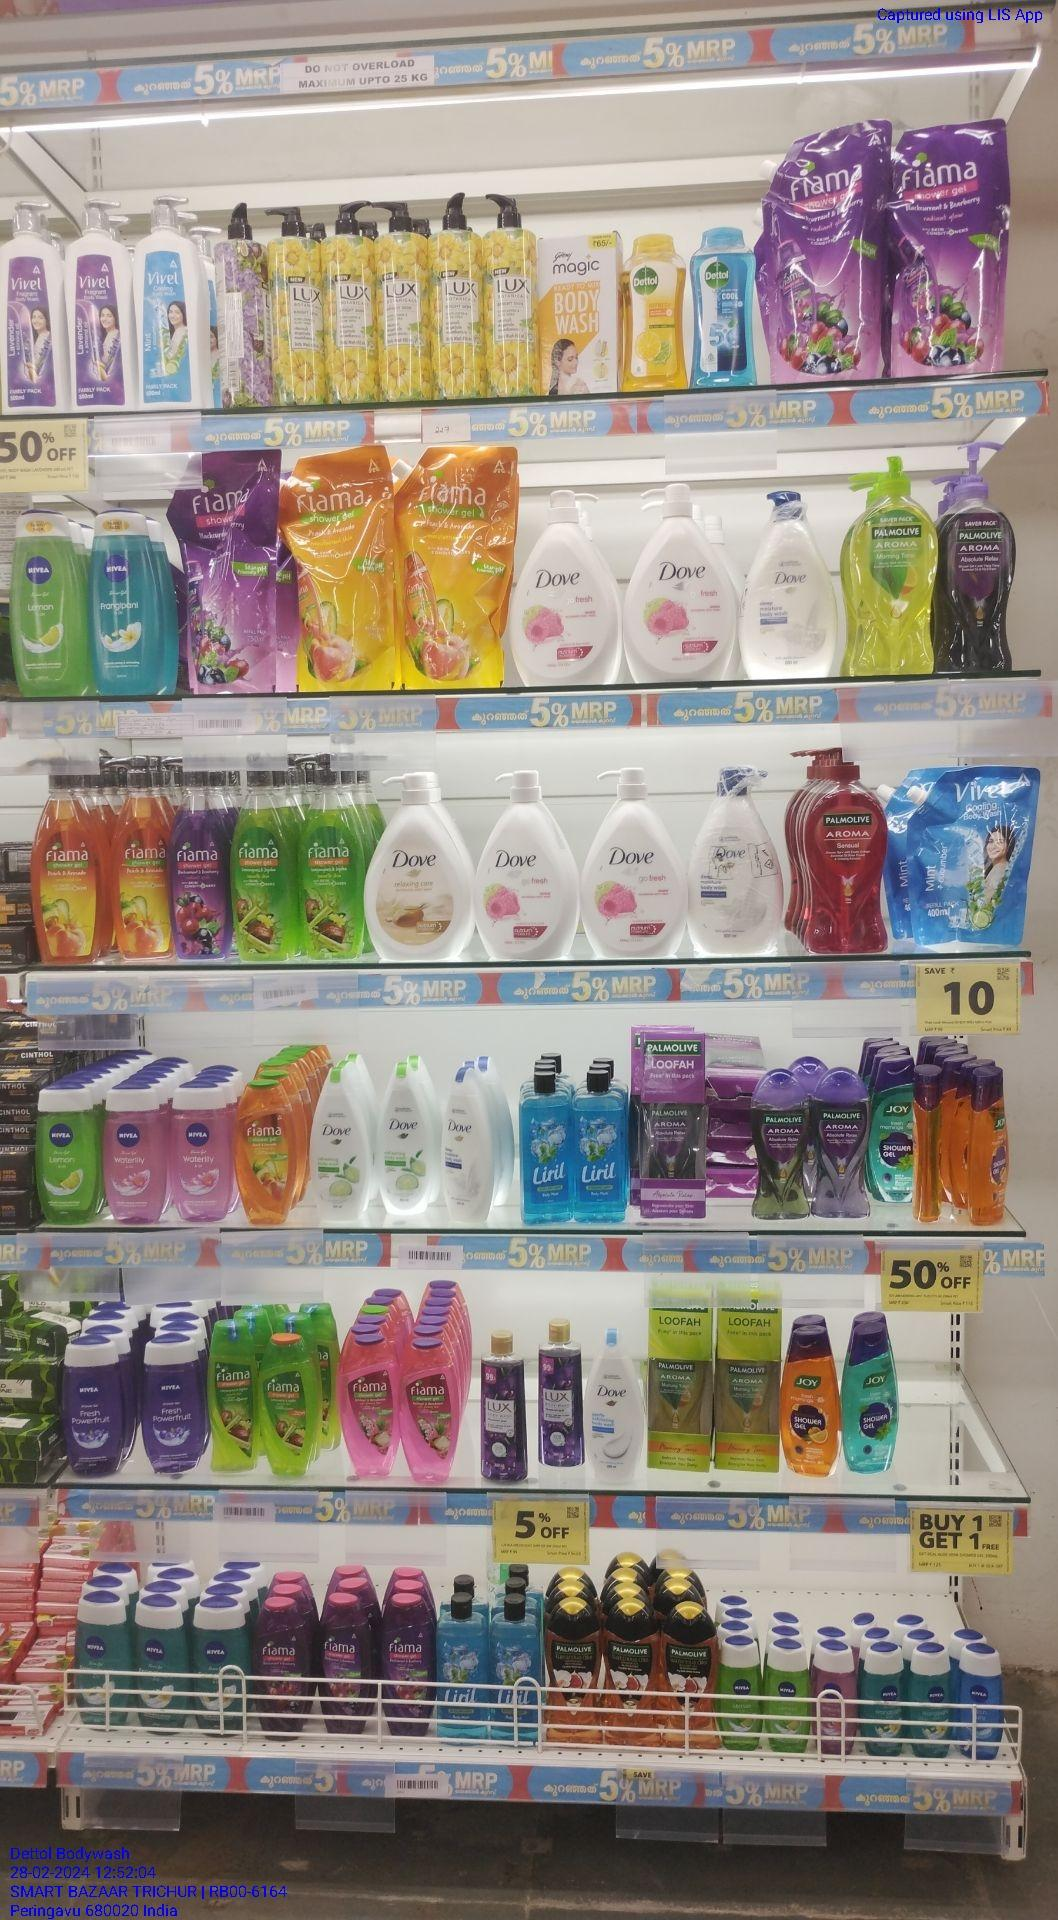Dettol_Bodywash_Cool: (693, 225, 756, 388)
Dettol_Bodywash_Refresh: (620, 231, 688, 400)
Dove_Deep_Moisture_Body_Wash_250ML: (442, 1069, 490, 1223)
Dove_Gentle_Exfoliating_Body_Wash_250ML: (589, 1327, 645, 1484)
Dove_Refreshing_Body_Wash_250ML: (313, 1066, 367, 1221), (377, 1063, 430, 1218)
Fiama_Shower_Gel_Lemongrass_and_Jojoba_250ML: (258, 1336, 314, 1485)
Fiama_Shower_Gel_Patchouli_and_Macadamia_250ML: (341, 1335, 396, 1482), (403, 1340, 456, 1489)
Fiama_Shower_Gel_Peach_and_Avocado_250ML: (237, 1080, 294, 1228)
Joy_Shower_Gel_Mandarin_and_Lemongrass_250ML: (780, 1314, 839, 1478), (973, 1069, 1008, 1231)
Joy_Shower_Gel_Mint_and_Eucalyptus_250ML: (847, 1327, 902, 1473), (869, 1059, 913, 1204)
Liril_Cooling_Mint_Body_Wash_250ML: (571, 1068, 623, 1227), (436, 1598, 489, 1745), (522, 1071, 569, 1226), (490, 1597, 537, 1748)
Lux_Black_Orchid_Scent_and_Juniper_Oil_Body_Wash_245ML: (481, 1329, 526, 1486), (538, 1320, 582, 1469)
Nivea_Shower_Gel_Frangipani_and_Oil_250ML: (87, 509, 163, 698), (190, 1600, 249, 1738), (73, 1594, 130, 1732), (136, 1600, 190, 1736)
Nivea_Shower_Gel_Fresh_Powerfruit_250ML: (141, 1333, 201, 1481), (60, 1334, 122, 1476)
Nivea_Shower_Gel_Lemon_and_Oil_250ML: (13, 508, 82, 699), (35, 1081, 100, 1226)
Nivea_Shower_Gel_Waterlily_and_Oil_250ML: (171, 1084, 232, 1226), (106, 1081, 164, 1228)
Palmolive_Aroma_Relax_250ML: (812, 1064, 869, 1219), (752, 1071, 808, 1221)
Palmolive_Luminous_Oils_With_White_Orchid_Shower_Gel_250ML: (659, 1603, 719, 1752), (546, 1600, 603, 1748), (606, 1601, 655, 1752)
